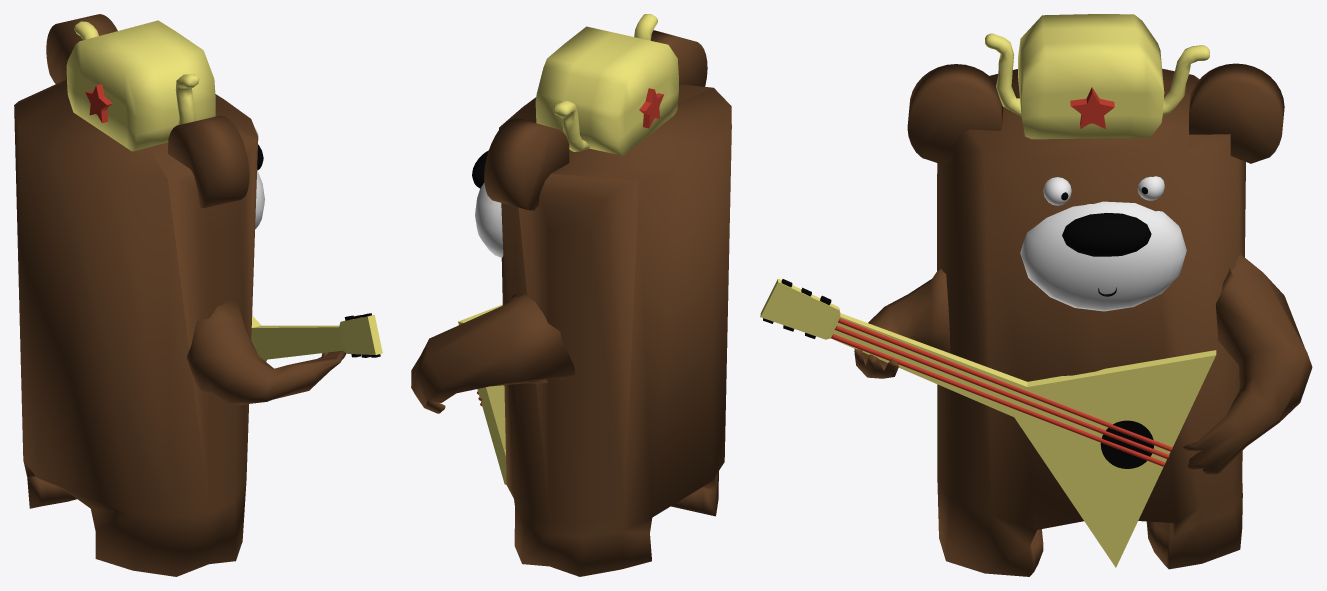
File: animation_bear.fbx
The picture shows the model from 3 angles, left to right: view 1: azimuth 30°, elevation 25°; view 2: azimuth 150°, elevation 25°; view 3: azimuth 270°, elevation 25°; orthographic projection. The views are drawn at different scales.
Parts seen in each view (by area): view 1: Cube.011, Cylinder.002, Cylinder.003; view 2: Cube.011, Cylinder.005, Cylinder.003; view 3: Cube.011, Cylinder.003, Cylinder.005, Cylinder.002.
Boxes of the visible parts, x1,y1,x2,y2 form: Cube.011: [14, 20, 382, 576]; Cylinder.002: [186, 300, 346, 404]; Cylinder.003: [46, 14, 249, 207]; Cube.011: [458, 14, 731, 576]; Cylinder.005: [411, 291, 574, 413]; Cylinder.003: [484, 30, 707, 210]; Cube.011: [760, 14, 1245, 576]; Cylinder.003: [907, 63, 1284, 164]; Cylinder.005: [1183, 255, 1312, 476]; Cylinder.002: [854, 269, 950, 378].
Size of the model in its own units: 197 by 381 by 370.
